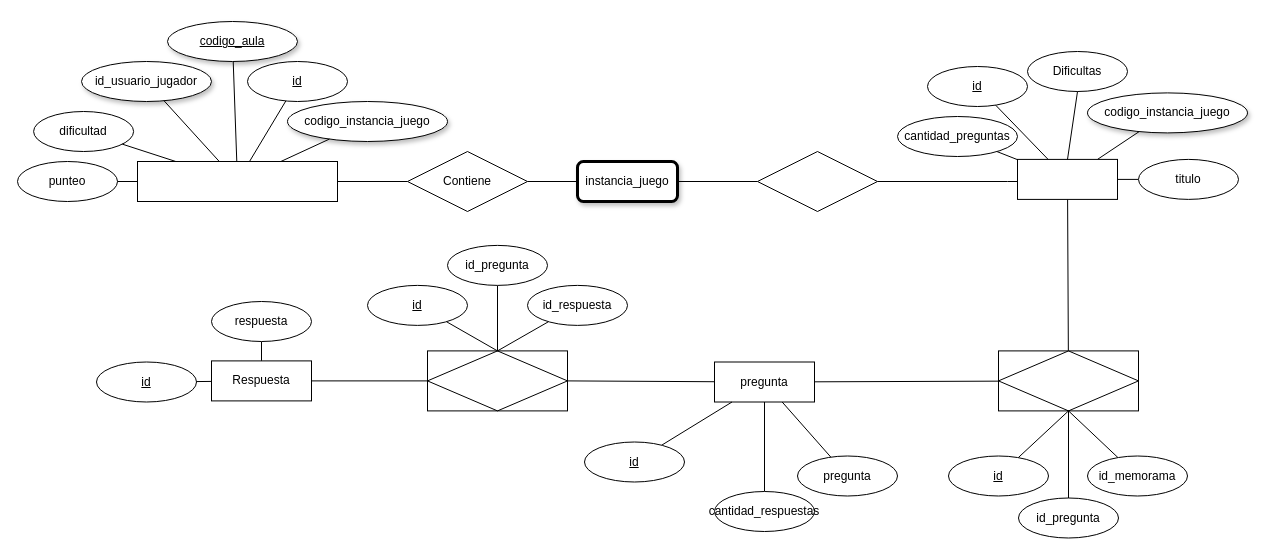
This 1271x556 diagram has some shape labels left out. Each missing label, with the centre of its shape:
Memorama: the point at 1067,178
Memorama_prguntas: the point at 1068,380
pregunta_respueta: the point at 497,380
punteo_partida_memorama: the point at 237,181
tiene: the point at 817,181
